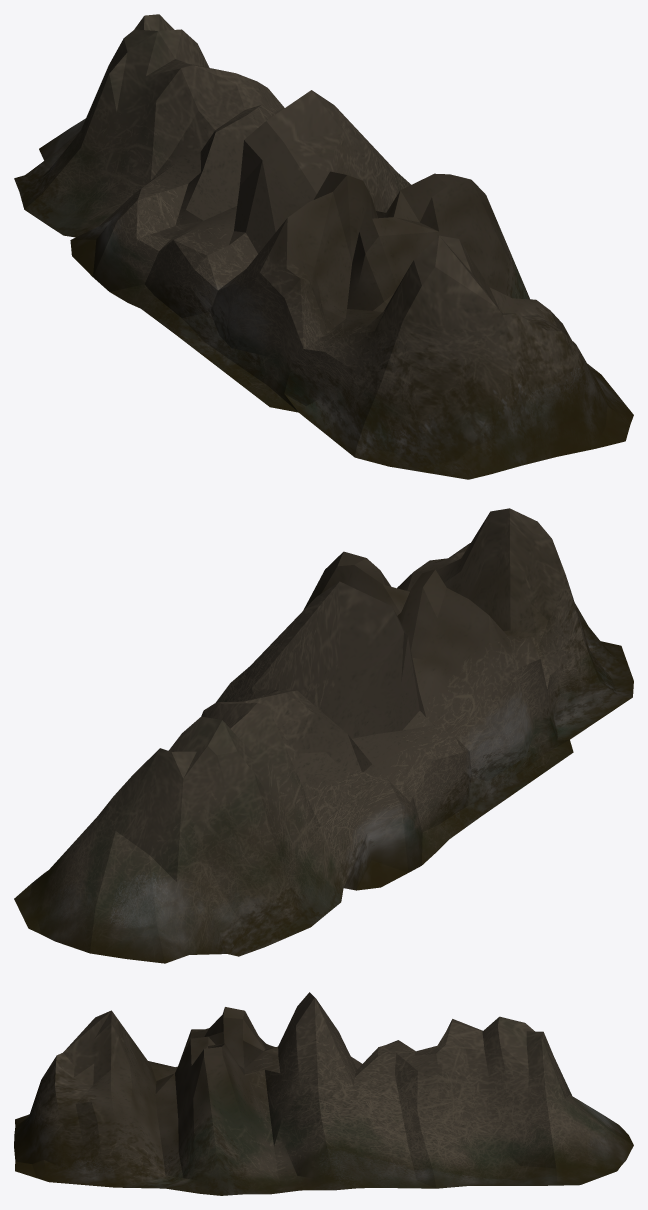
File: cliffsmall.glb
The picture shows the model from 3 angles, top to bottom: view 1: azimuth 30°, elevation 25°; view 2: azimuth 150°, elevation 25°; view 3: azimuth 270°, elevation 25°; orthographic projection. The views are drawn at different scales.
Visible parts, largest first — view 1: Plane; view 2: Plane; view 3: Plane.
Boxes of the visible parts, box(x1,y1,x2,y2) form: Plane: box(14, 14, 633, 479); Plane: box(14, 508, 633, 963); Plane: box(14, 992, 633, 1195).
Size of the model in its own units: 10.31 by 6.93 by 26.72.
1 material, 1 textured.
